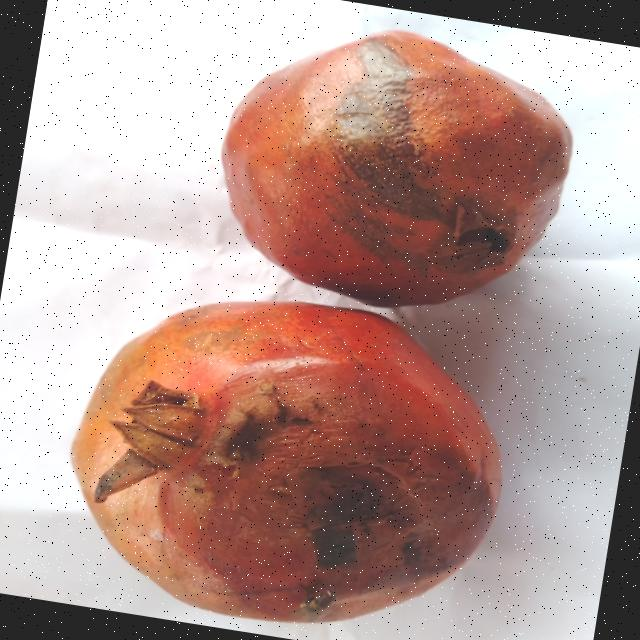Rotten: (46, 267, 525, 640), (193, 1, 592, 336)
